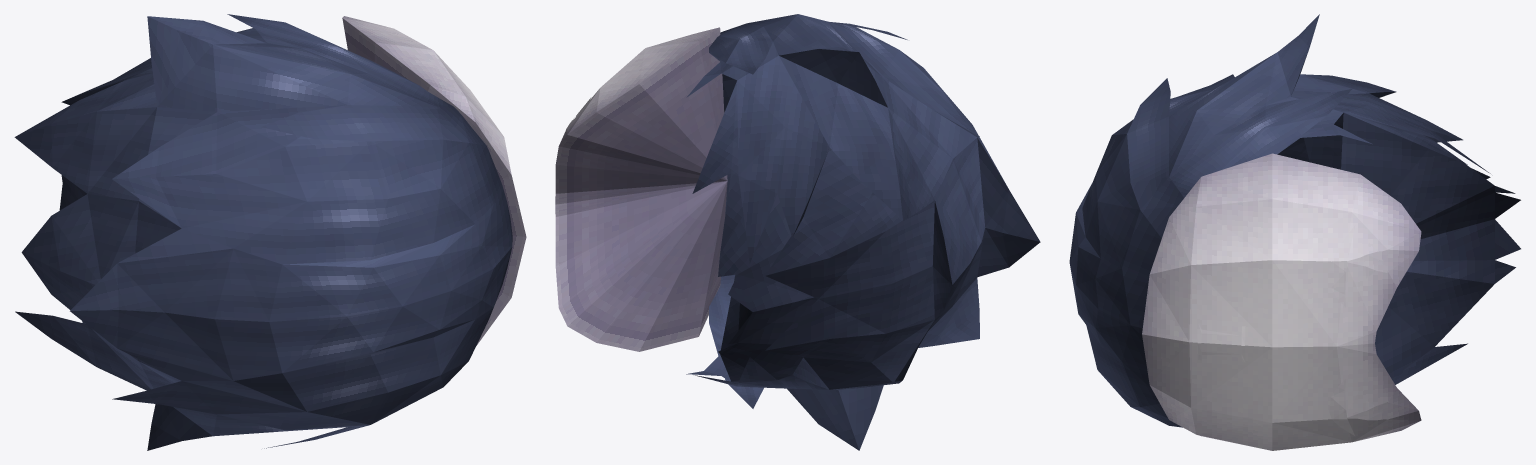
Rendered from acce442.obj.
3 renders of one model, left to right at view 1: azimuth 30°, elevation 25°; view 2: azimuth 150°, elevation 25°; view 3: azimuth 270°, elevation 25°, orthographic. The views are drawn at different scales.
Visible parts, largest first — view 1: acce442; view 2: acce442; view 3: acce442.
Part boxes in pixels (box(x1,y1,x2,y2)): acce442: box(14, 14, 526, 450); acce442: box(555, 14, 1040, 450); acce442: box(1069, 14, 1520, 450).
Size of the model in its own units: 0.4964 by 0.4608 by 0.4802.
1 material, 1 textured.
